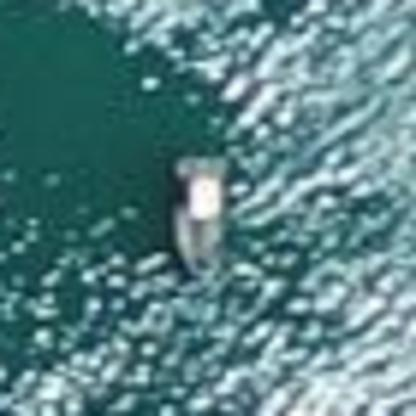ship: (158, 150, 244, 283)
